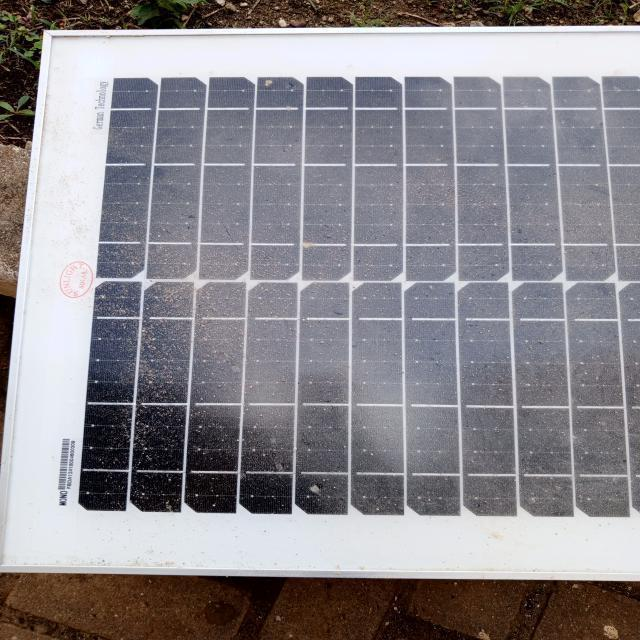Anomaly Solar Panel: (73, 44, 638, 538)
Surface Contaminant: (83, 50, 639, 532)
